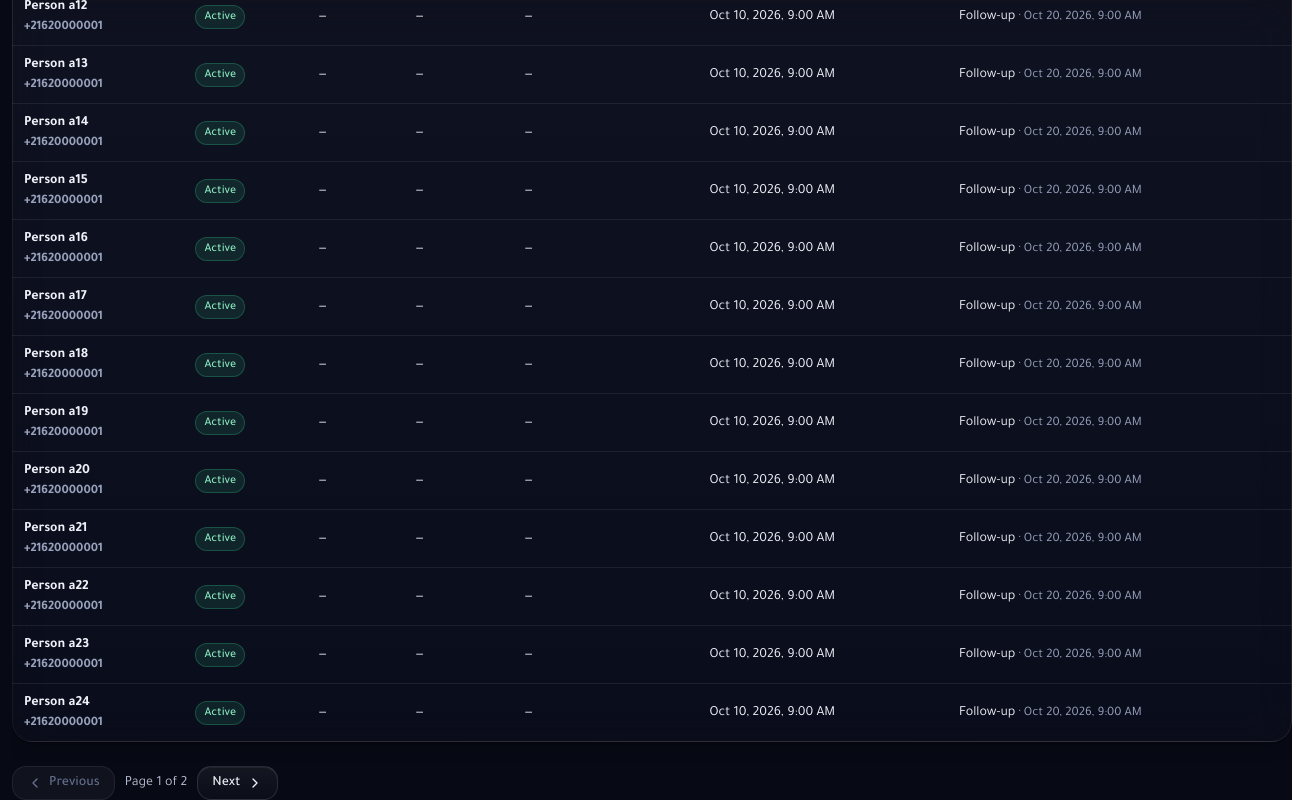
Test: Prospects (live) › asks the server for the next page and shows its prospects
This screenshot has width=1292, height=800.
(page scrolled)
expect the text with test id "prospects-page" reads "Page 1 of 2": met, box left=125, top=772, right=187, bottom=794
expect the button "Previous" is disabled: met, box left=12, top=766, right=115, bottom=799
Click the button "Next" at (237, 783), box left=197, top=766, right=278, bottom=799
(page scrolled)
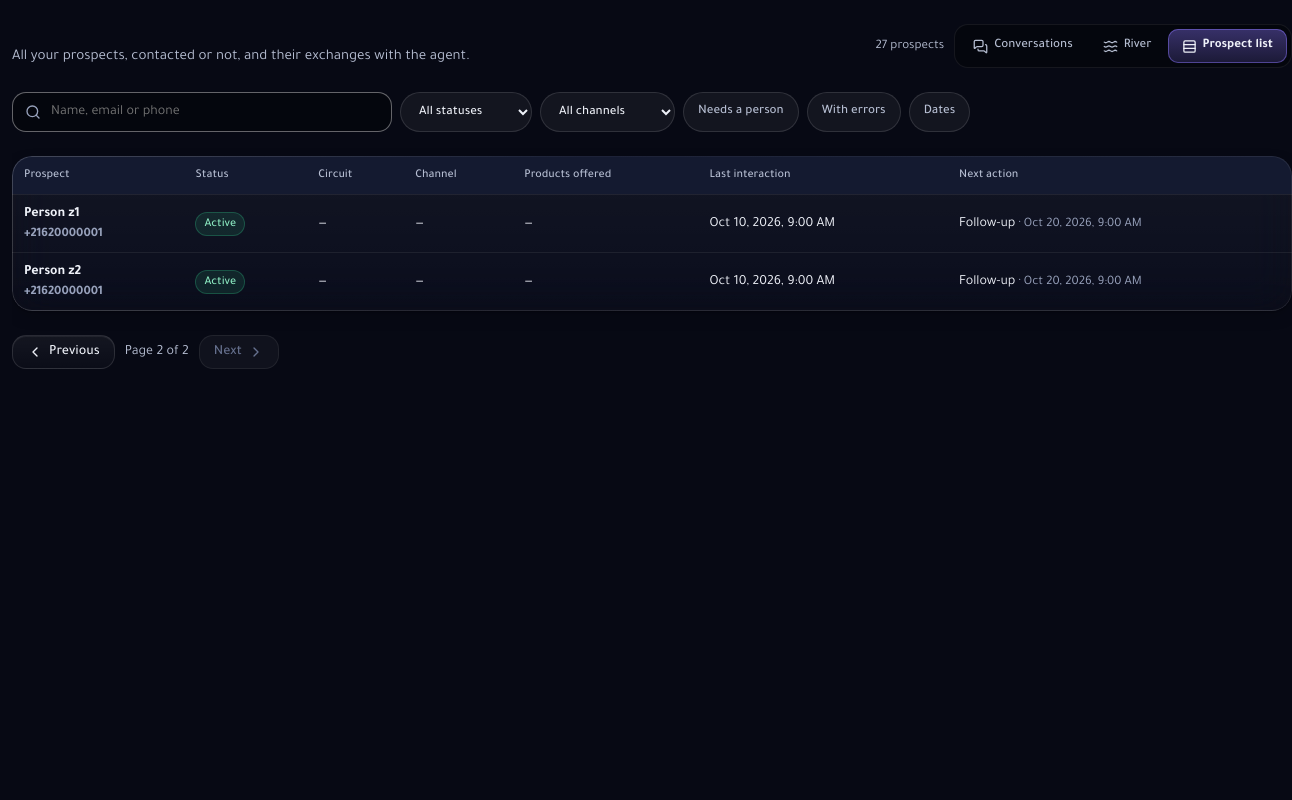
expect the row with test id "prospect-z2" is shown: met, box left=12, top=253, right=1291, bottom=311
expect the button "Next" is disabled: met, box left=199, top=335, right=279, bottom=369
